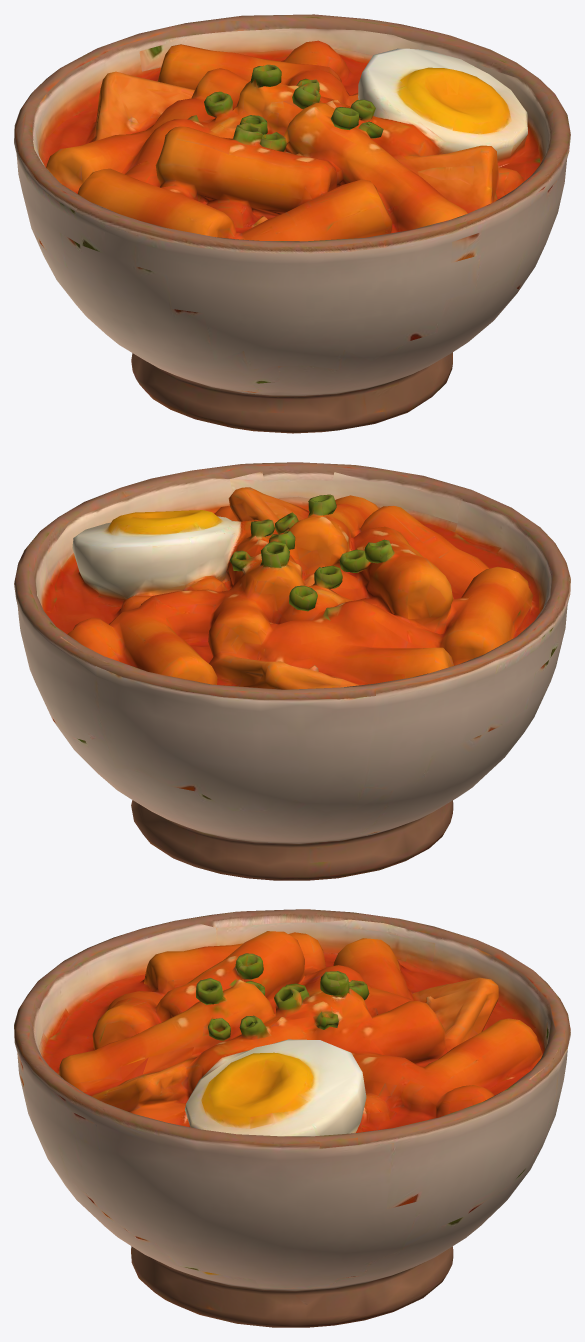
3 renders of one model, top to bottom at view 1: azimuth 30°, elevation 25°; view 2: azimuth 150°, elevation 25°; view 3: azimuth 270°, elevation 25°, orthographic.
Visible parts, largest first — view 1: tteokbokki; view 2: tteokbokki; view 3: tteokbokki.
Boxes of the visible parts, x1,y1,x2,y2 form: tteokbokki: [14, 14, 570, 433]; tteokbokki: [14, 462, 570, 880]; tteokbokki: [14, 909, 570, 1327].
Size of the model in its own units: 0.1801 by 0.1019 by 0.18.
1 material, 1 textured.
